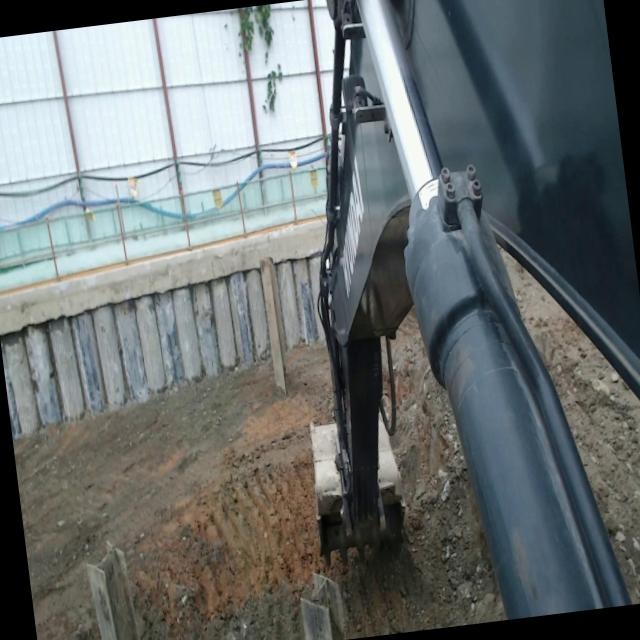white-sand: (13, 310, 505, 640), (503, 254, 640, 604)
